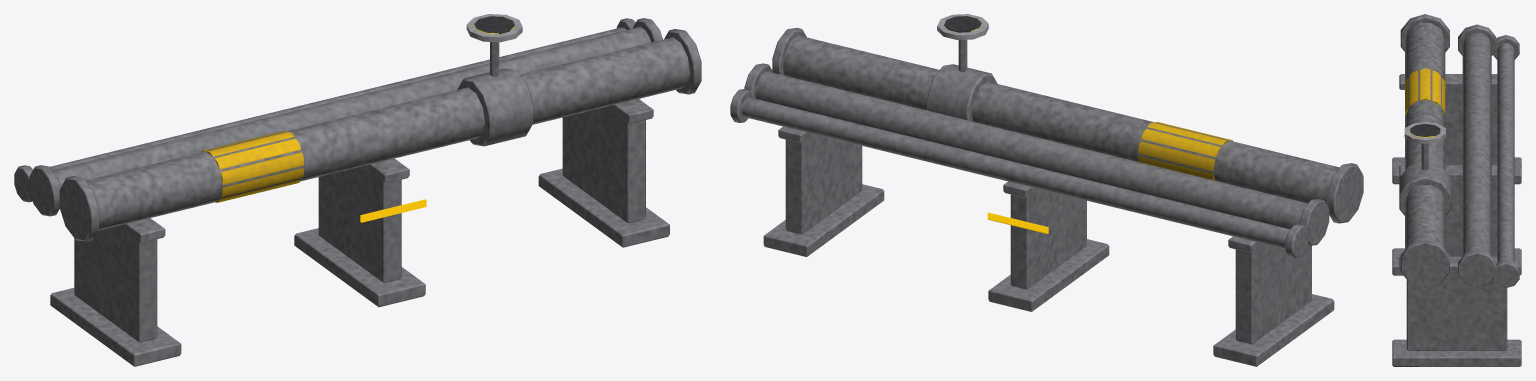
The model's file is nodexeus-manifold.glb.
3 views of the same model, side by side, from view 1: azimuth 30°, elevation 25°; view 2: azimuth 150°, elevation 25°; view 3: azimuth 270°, elevation 25° (orthographic). The views are drawn at different scales.
Visible parts, largest first — view 1: manifold; view 2: manifold; view 3: manifold.
Boxes of the visible parts, x1,y1,x2,y2 form: manifold: (14, 14, 701, 366); manifold: (730, 14, 1363, 366); manifold: (1392, 14, 1521, 366).
Bounding box in the file's own units: 3.76 × 1.38 × 0.9.
1 material, 1 textured.
